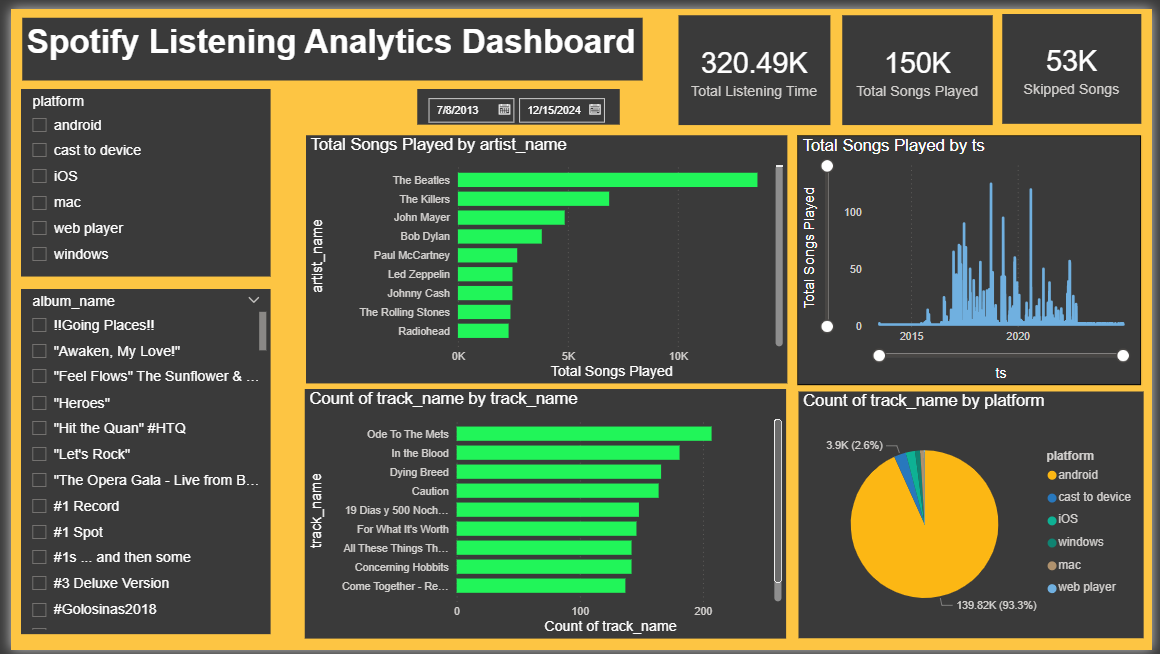

What the dashboard file says about the page in this screenshot:
{"tool":"powerbi","page":{"name":"Page 1","canvas":[1280,720],"ordinal":0},"visuals":[{"type":"card","fields":{"Values":["spotify_history.Total Listening Time"]},"box":[748.6,7.1,170,122.9],"z":0},{"type":"card","fields":{"Values":["spotify_history.Total Songs Played"]},"box":[932.9,7.1,168.6,122.9],"z":1000},{"type":"card","fields":{"Values":["spotify_history.Skipped Songs"]},"box":[1111.4,5.7,155.7,122.9],"z":2000},{"type":"clusteredBarChart","fields":{"Y":["spotify_history.Total Songs Played"],"Category":["spotify_history.artist_name"]},"box":[331.4,141.4,540,278.6],"z":3000},{"type":"lineChart","fields":{"Y":["spotify_history.Total Songs Played"],"Category":["spotify_history.ts"]},"box":[881.4,141.4,385.7,280],"z":4000},{"type":"pieChart","fields":{"Category":["spotify_history.platform"],"Y":["CountNonNull(spotify_history.track_name)"]},"box":[882.9,428.6,387.1,277.1],"z":5000},{"type":"clusteredBarChart","fields":{"Y":["CountNonNull(spotify_history.track_name)"],"Category":["spotify_history.track_name"]},"box":[330,425.7,540,280],"z":6000},{"type":"slicer","fields":{"Values":["spotify_history.album_name"]},"box":[11.4,314.3,280,387.1],"z":7000},{"type":"slicer","fields":{"Values":["spotify_history.platform"]},"box":[11.4,90,280,210],"z":8000},{"type":"slicer","fields":{"Values":["spotify_history.ts"]},"box":[455.7,90,227.1,40],"z":9000},{"type":"textbox","box":[12.9,10,695.7,70],"z":10000}]}

Visuals, with their boxes in screenshot pixels (x1, y1, x2, y2), scaled from the page's 1280x720 canvas onto the 1160x654 screenshot:
card - spotify_history.Total Listening Time: 678, 6, 832, 118
card - spotify_history.Total Songs Played: 845, 6, 998, 118
card - spotify_history.Skipped Songs: 1007, 5, 1148, 117
clusteredBarChart - spotify_history.Total Songs Played x spotify_history.artist_name: 300, 128, 790, 382
lineChart - spotify_history.Total Songs Played x spotify_history.ts: 799, 128, 1148, 383
pieChart - spotify_history.platform x CountNonNull(spotify_history.track_name): 800, 389, 1151, 641
clusteredBarChart - CountNonNull(spotify_history.track_name) x spotify_history.track_name: 299, 387, 788, 641
slicer - spotify_history.album_name: 10, 285, 264, 637
slicer - spotify_history.platform: 10, 82, 264, 272
slicer - spotify_history.ts: 413, 82, 619, 118
textbox: 12, 9, 642, 73
